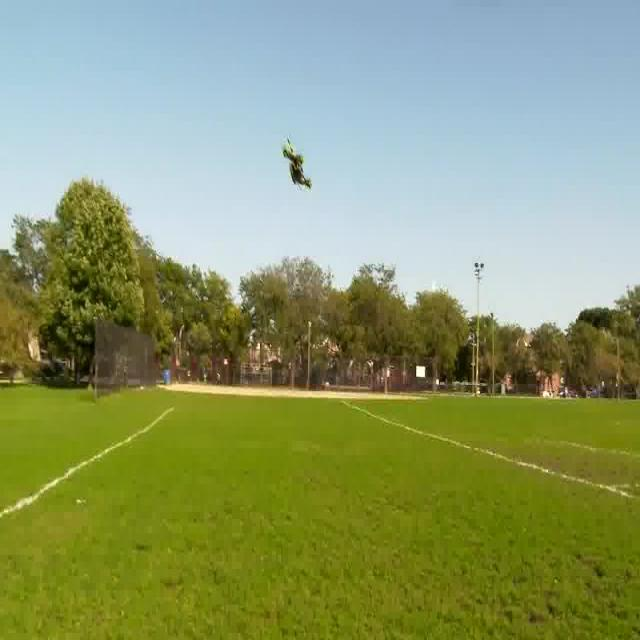drone: (278, 137, 312, 196)
